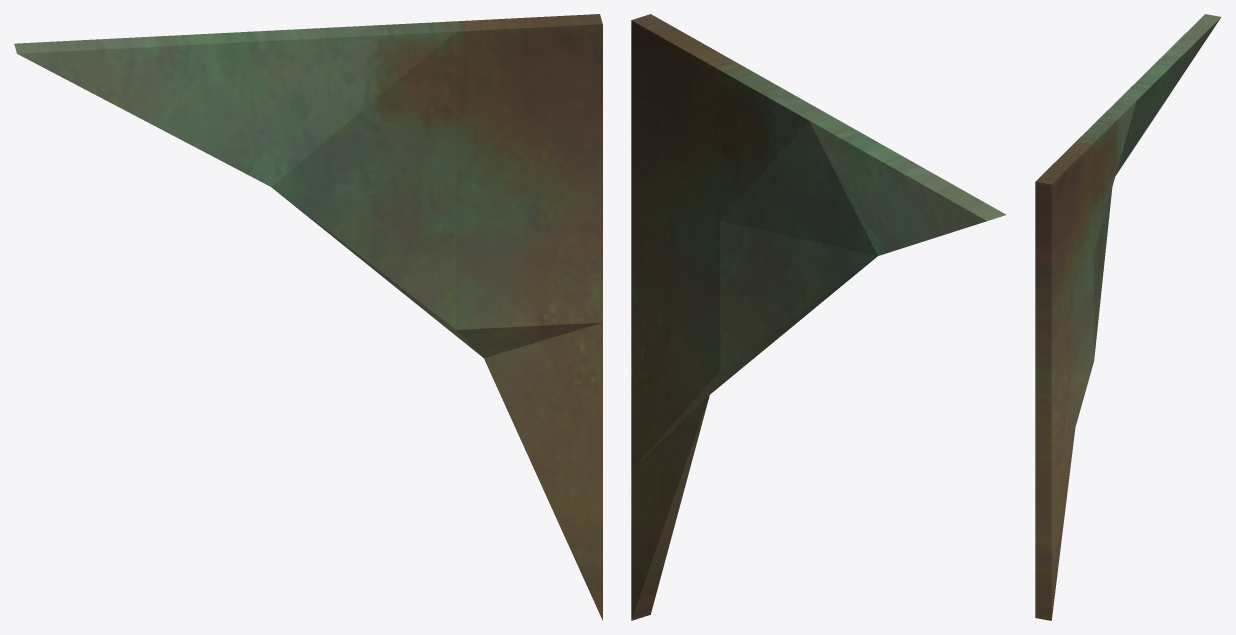
Rendered from GH_1_EmbR_3.gltf.
3 views of the same model, side by side, from view 1: azimuth 30°, elevation 25°; view 2: azimuth 150°, elevation 25°; view 3: azimuth 270°, elevation 25° (orthographic). The views are drawn at different scales.
Visible parts, largest first — view 1: GH_1_EmbR_3; view 2: GH_1_EmbR_3; view 3: GH_1_EmbR_3.
Boxes of the visible parts, left/top/right/bottom form: GH_1_EmbR_3: left=14, top=14, right=602, bottom=620; GH_1_EmbR_3: left=631, top=14, right=1006, bottom=620; GH_1_EmbR_3: left=1035, top=14, right=1221, bottom=620.
Size of the model in its own units: 1.17 by 1.4 by 0.5411.
1 material, 1 textured.
